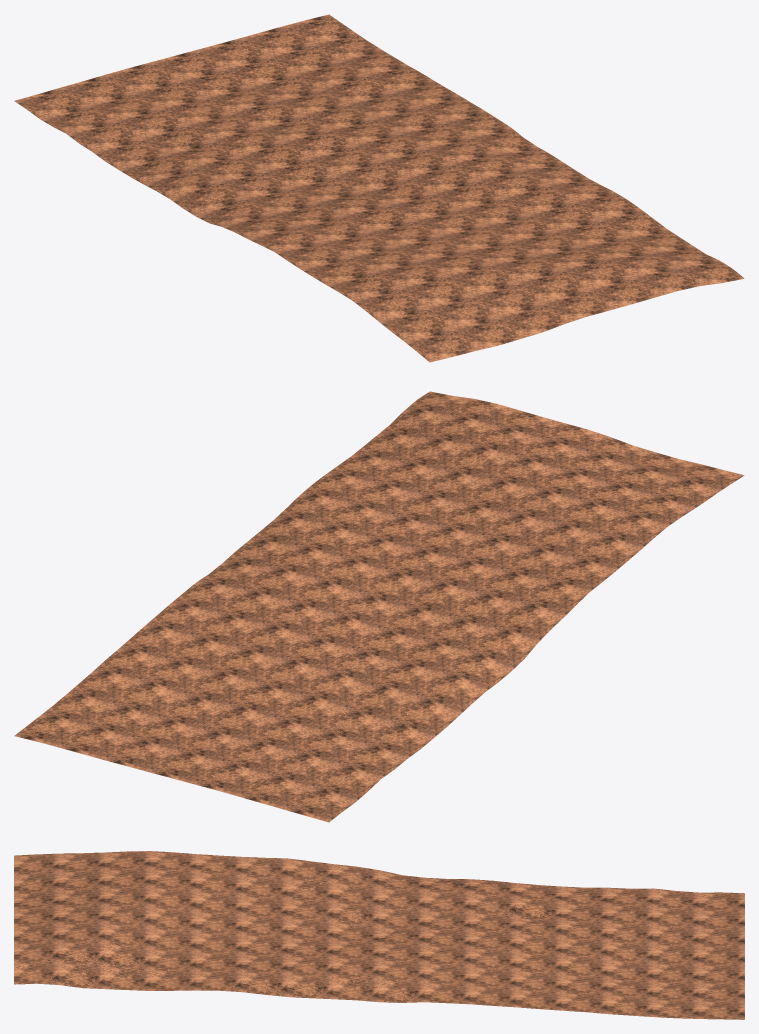
Rendered from terrain_06_23.dae.
The picture shows the model from 3 angles, top to bottom: view 1: azimuth 30°, elevation 25°; view 2: azimuth 150°, elevation 25°; view 3: azimuth 270°, elevation 25°; orthographic projection. The views are drawn at different scales.
Parts seen in each view (by area): view 1: terrain_06_23-node; view 2: terrain_06_23-node; view 3: terrain_06_23-node.
Boxes of the visible parts, x1=… form: terrain_06_23-node: x1=14, y1=14, x2=744, y2=362; terrain_06_23-node: x1=14, y1=391, x2=744, y2=822; terrain_06_23-node: x1=14, y1=851, x2=744, y2=1019.
Size of the model in its own units: 56 by 128 by 9.39.
Materials: 1 (1 with a texture image).
